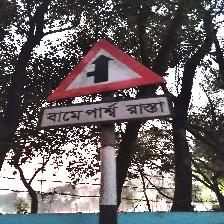Side-road-left: (40, 37, 172, 131)
